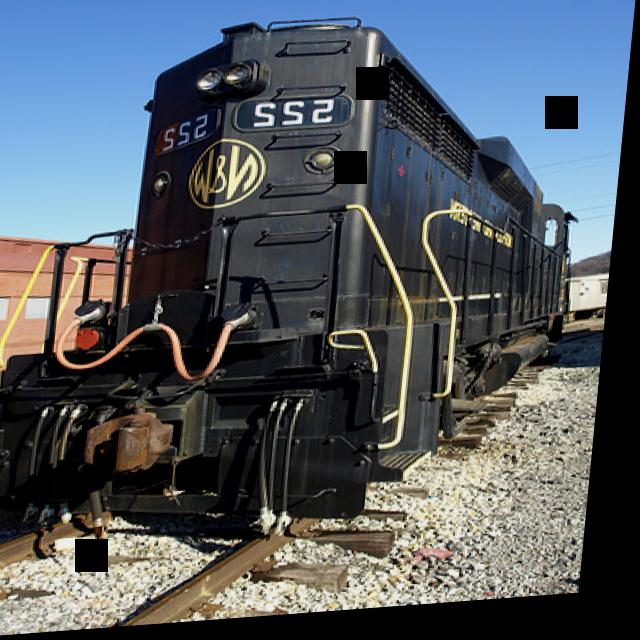locomotive: (0, 0, 607, 565)
